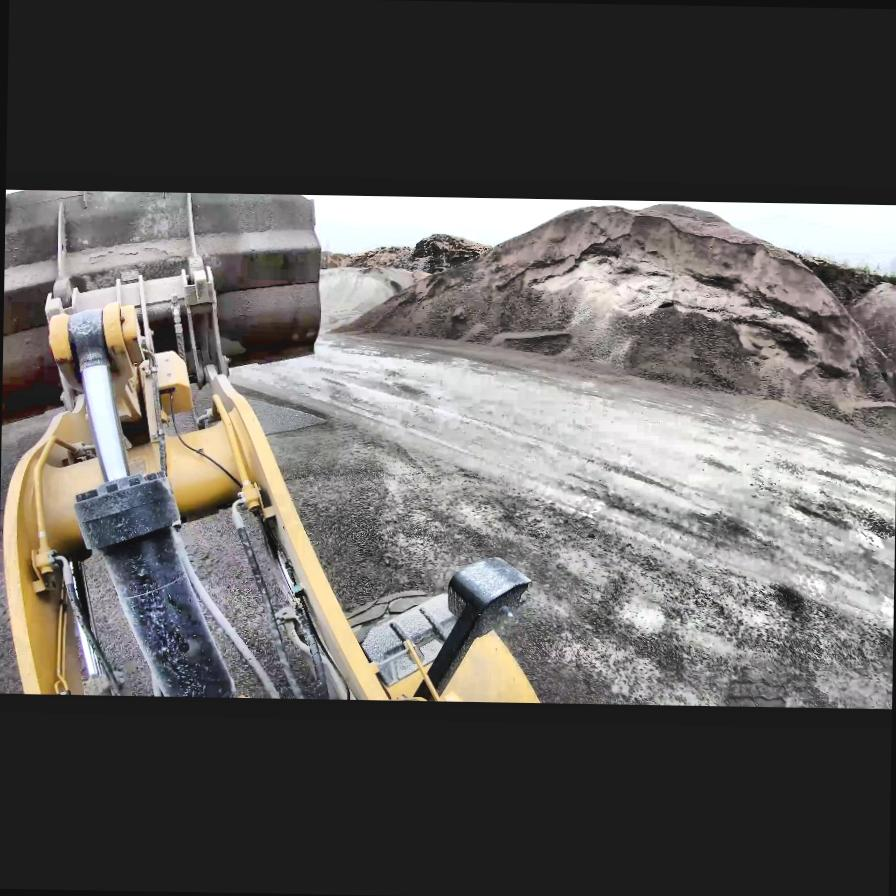anchor: (44, 300, 142, 372)
pile of gravel: (319, 196, 896, 416)
